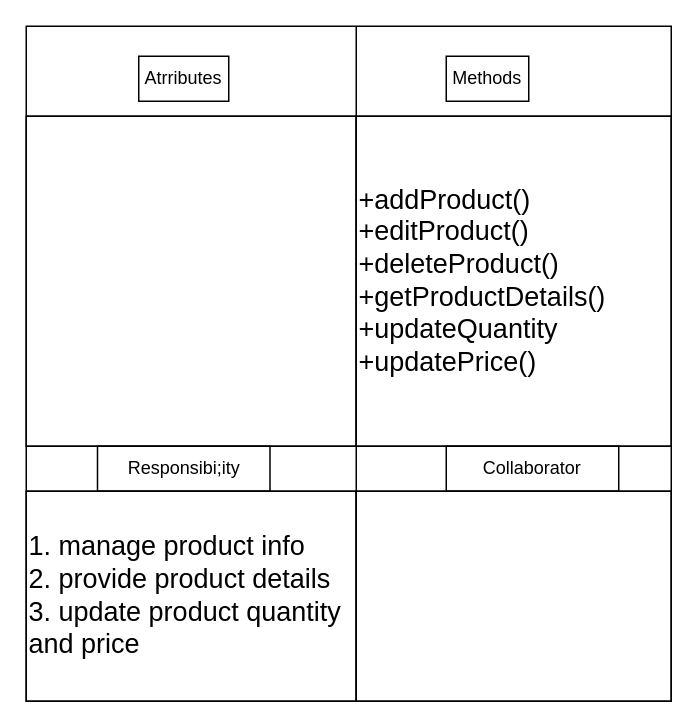
Some shapes in this 699 by 728 pixel diagram are drawn without their labels. Each missing label, with the centre of its shape:
"-Admin -Admin -Admin" goes at pixel 513 595.
"-productID -productName -description -price -quantity -category -brand" goes at pixel 190 280.
